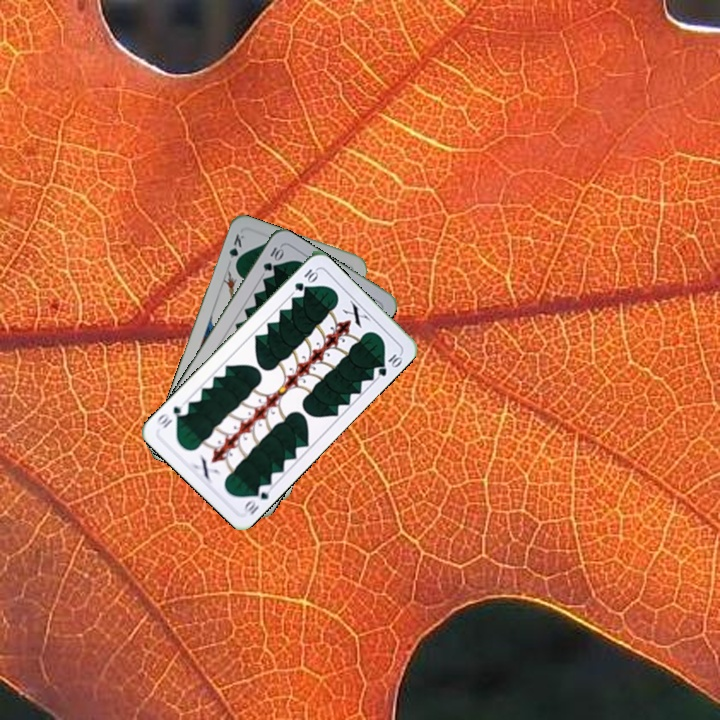G10: (239, 480, 272, 518), (290, 264, 321, 294), (259, 243, 286, 274)
GK: (225, 230, 248, 269)
